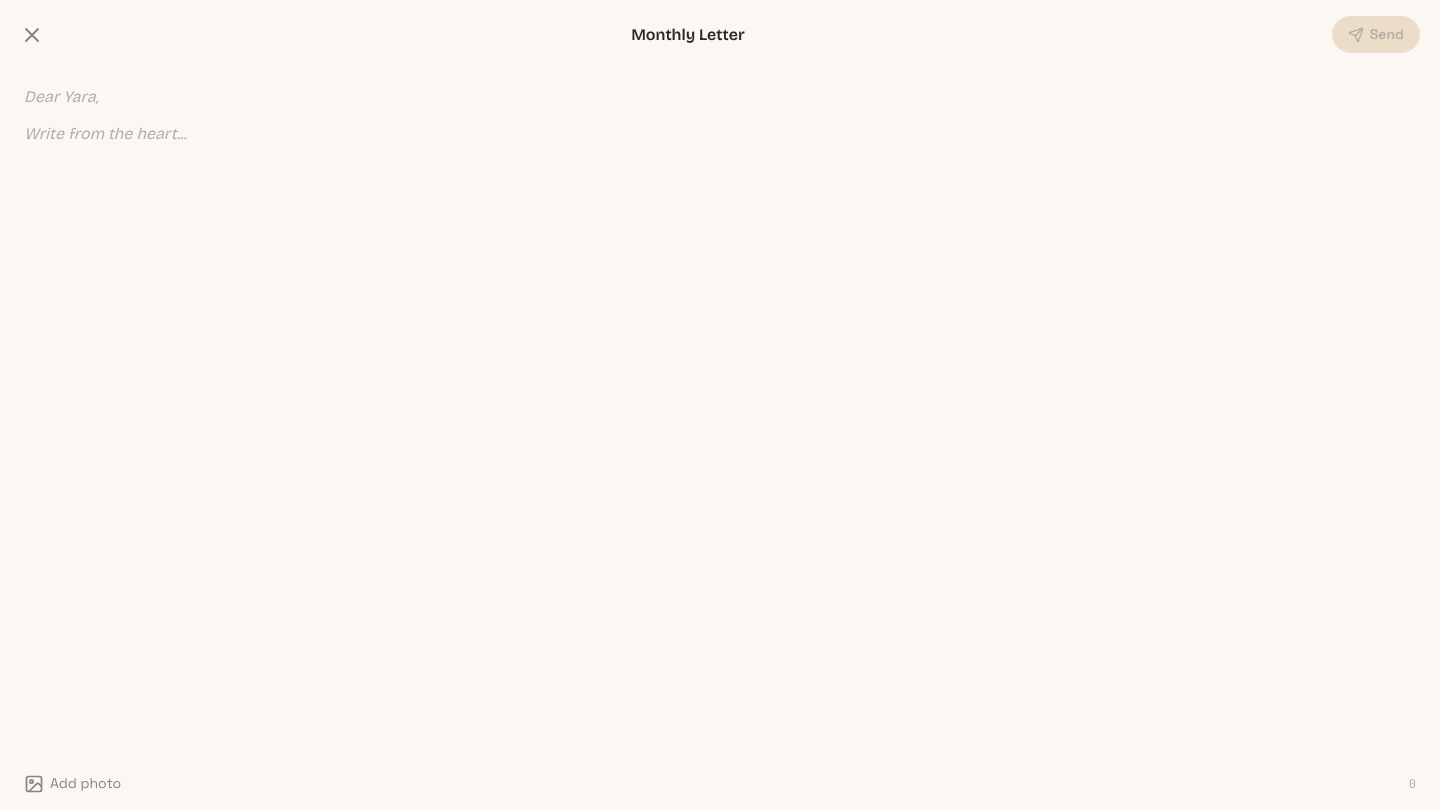
Test: MonthlyLetterComposer › interaction › updates character count on type
This screenshot has width=1440, height=810.
Type "Hello" into the text box with test id "letter-textarea" at (720, 271), box [24, 121, 1416, 421]
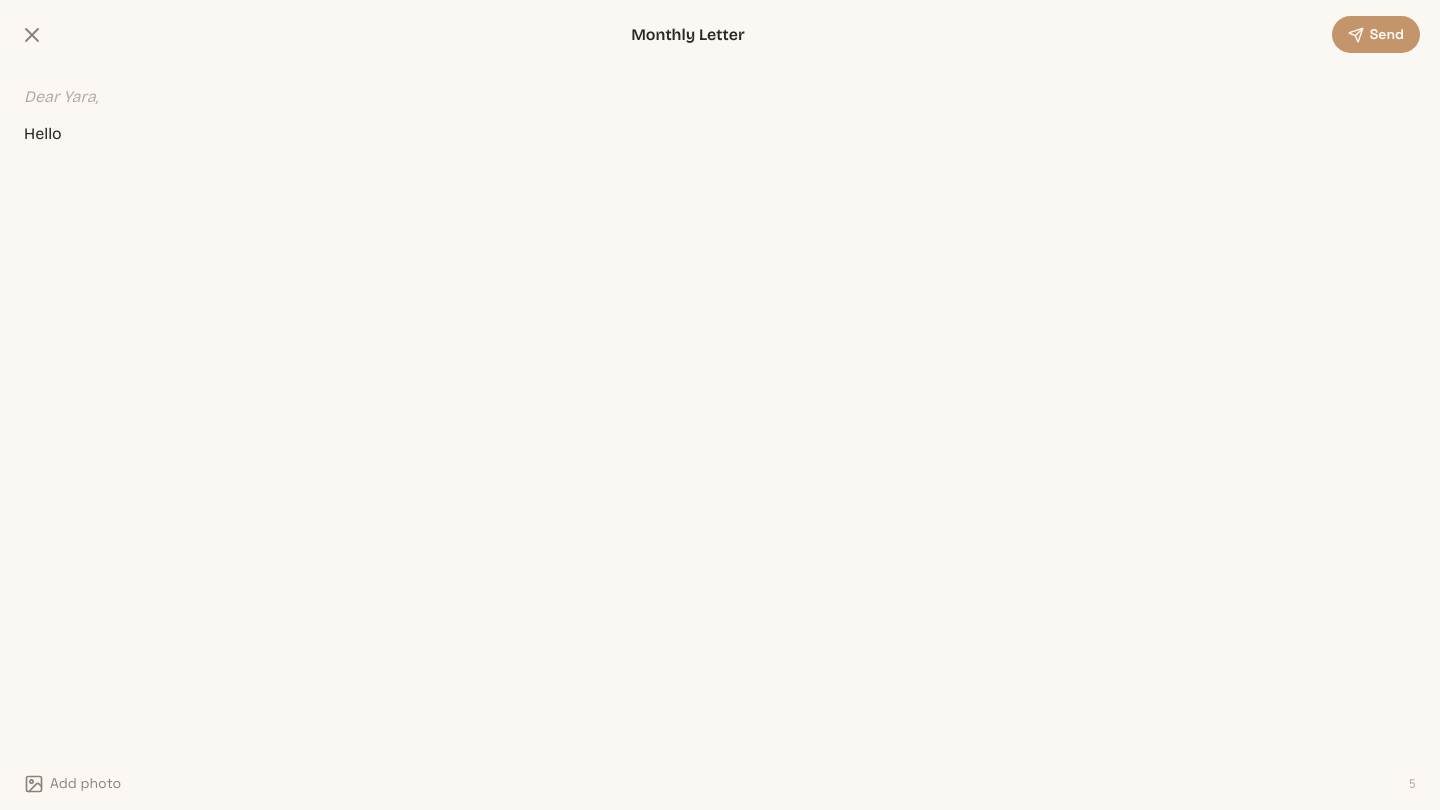
Expected: the text with test id "char-count" reads "5", [1409, 776, 1416, 792]
